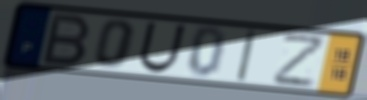0: (92, 18, 137, 72), (186, 26, 228, 80)
B: (38, 11, 94, 68)
I: (234, 28, 259, 84)
U: (136, 20, 189, 75)
Z: (271, 34, 329, 89)
